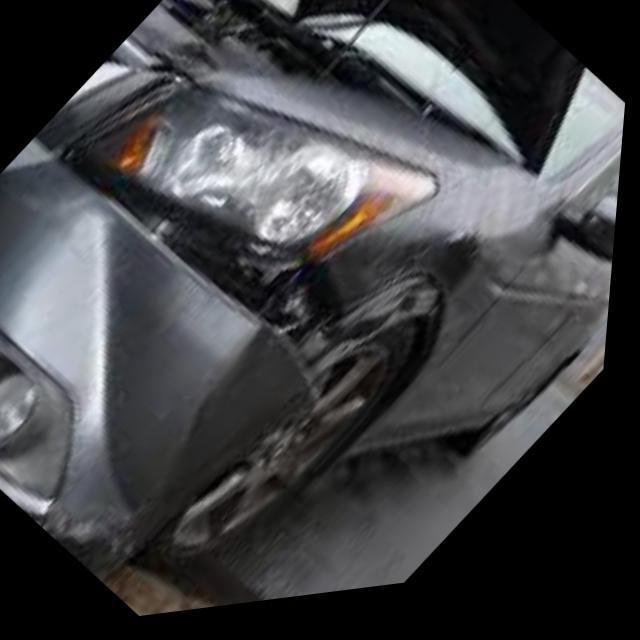dislocated part: (13, 141, 496, 588)
